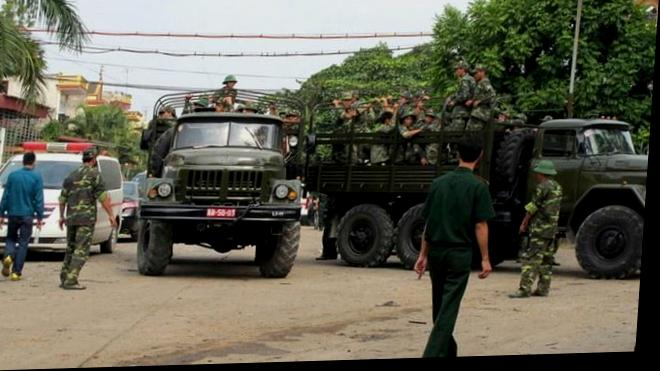License_Plate: (204, 202, 240, 223)
